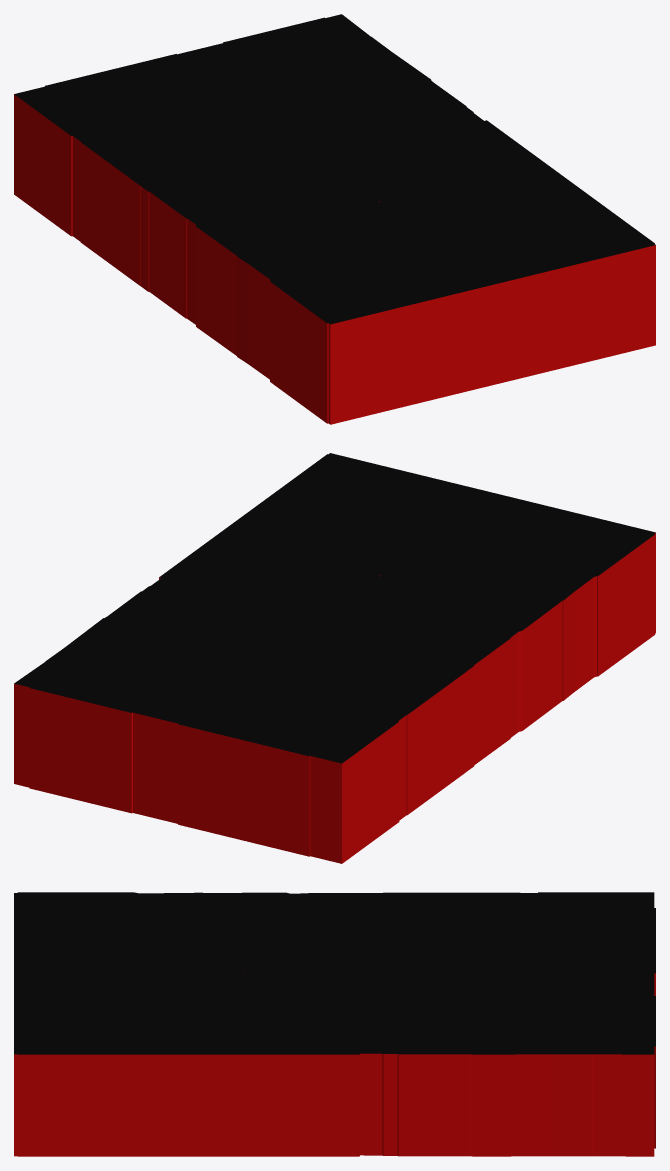
File: Digests.fbx
3 views of the same model, one above another, from view 1: azimuth 30°, elevation 25°; view 2: azimuth 150°, elevation 25°; view 3: azimuth 270°, elevation 25° (orthographic).
Visible parts, largest first — view 1: 0, 1, 4, 2, 7, 5, 3, 9, 6, 8, :; view 2: 2, 3, 4, 9, 5, 0, 1, 7, 6, 8, :; view 3: 0, 5, 2, 4, 3, 8, 1, 7, 6, 9, :.
Boxes of the visible parts, bbox=[...] form: 0: bbox=[45, 27, 624, 311]; 1: bbox=[78, 54, 545, 408]; 4: bbox=[45, 63, 501, 417]; 2: bbox=[14, 14, 627, 324]; 7: bbox=[223, 17, 655, 424]; 5: bbox=[66, 26, 654, 423]; 3: bbox=[64, 27, 523, 379]; 9: bbox=[45, 34, 624, 308]; 6: bbox=[49, 25, 622, 363]; 8: bbox=[58, 28, 613, 276]; :: bbox=[244, 86, 480, 273]; 2: bbox=[14, 467, 627, 863]; 3: bbox=[53, 466, 626, 771]; 4: bbox=[82, 490, 625, 856]; 9: bbox=[47, 471, 627, 820]; 5: bbox=[52, 454, 655, 764]; 0: bbox=[55, 466, 625, 745]; 1: bbox=[178, 480, 591, 848]; 7: bbox=[29, 453, 655, 813]; 6: bbox=[45, 470, 590, 716]; 8: bbox=[57, 472, 597, 715]; :: bbox=[174, 529, 445, 690]; 0: bbox=[18, 894, 651, 1052]; 5: bbox=[17, 892, 652, 1156]; 2: bbox=[15, 892, 654, 1156]; 4: bbox=[14, 892, 655, 1156]; 3: bbox=[19, 892, 651, 1156]; 8: bbox=[18, 893, 621, 1155]; 1: bbox=[14, 924, 655, 1022]; 7: bbox=[14, 892, 655, 1156]; 6: bbox=[19, 892, 649, 1156]; 9: bbox=[35, 892, 650, 1155]; :: bbox=[136, 948, 591, 998].
Size of the model in its own units: 0.342 by 0.1 by 0.5706.
